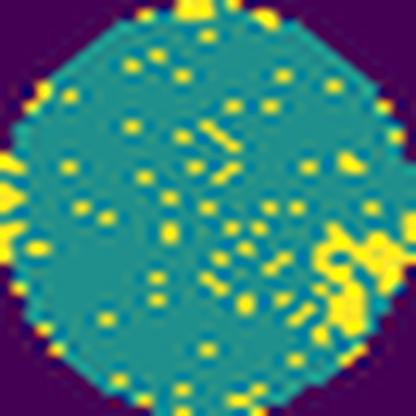Loc: (305, 213, 416, 348)
